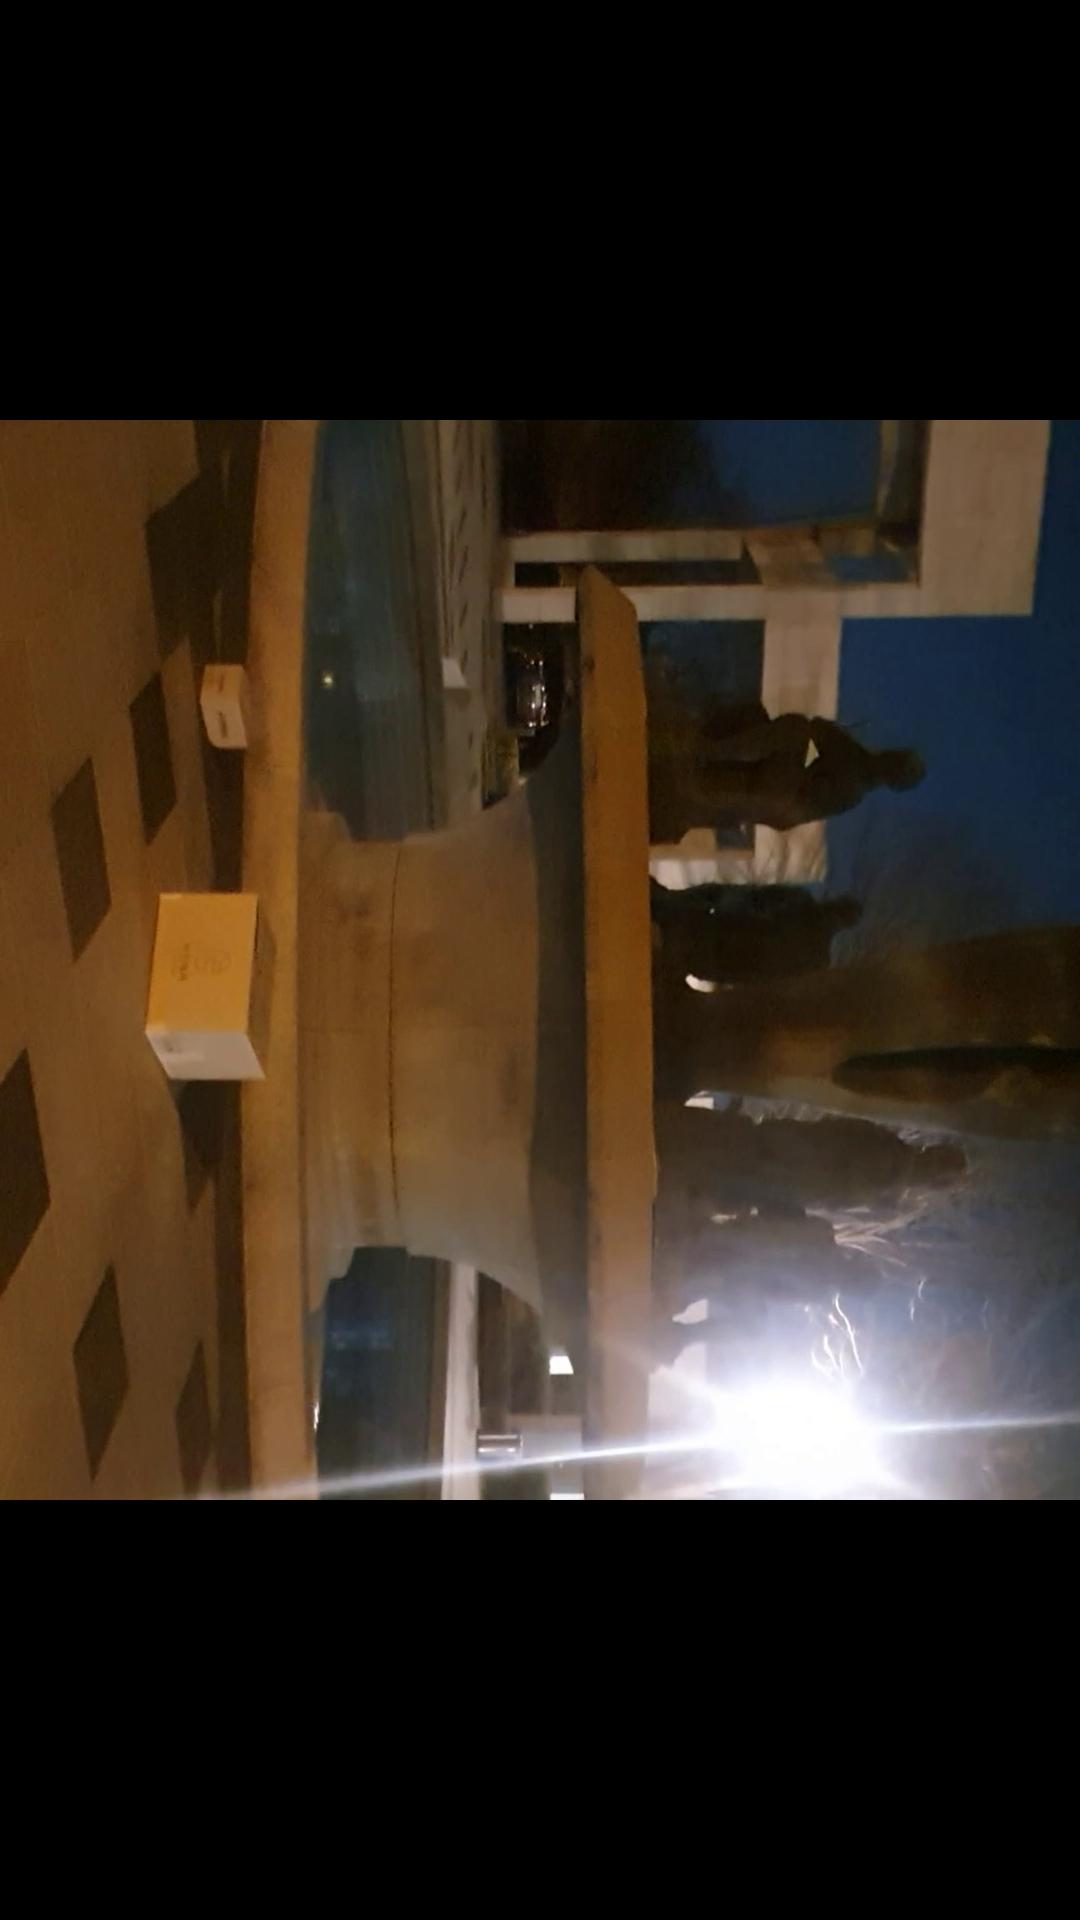Box: (140, 891, 285, 1095), (189, 653, 260, 752)
